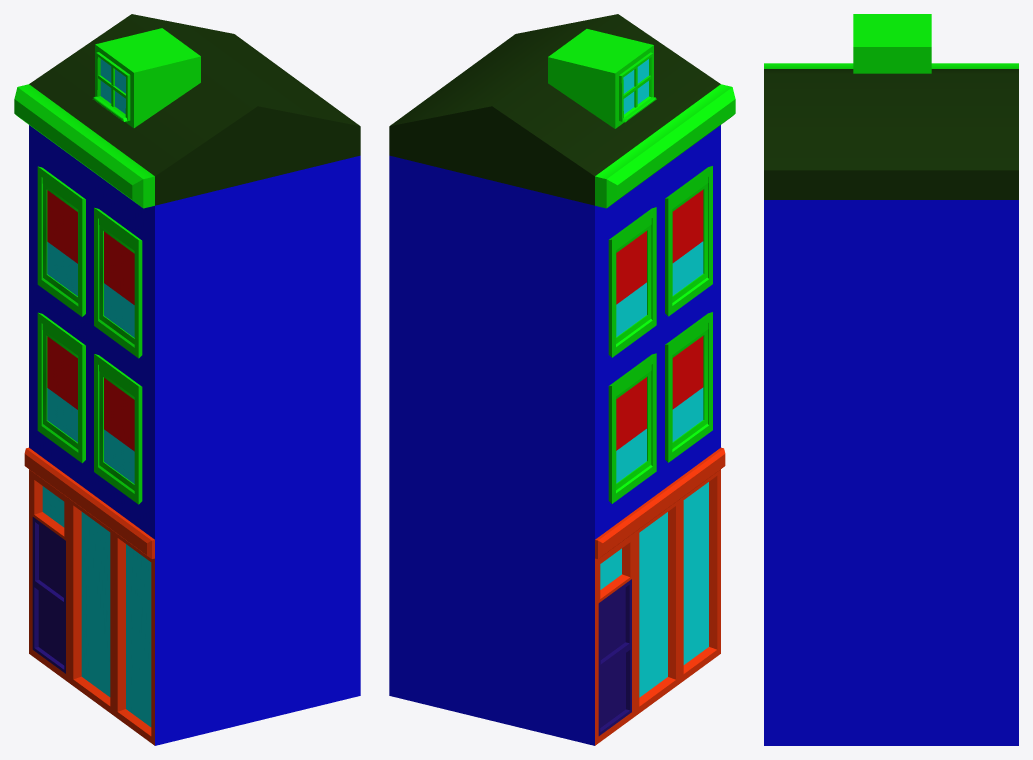
File: Links_4.obj
3 renders of one model, left to right at view 1: azimuth 30°, elevation 25°; view 2: azimuth 150°, elevation 25°; view 3: azimuth 270°, elevation 25°, orthographic.
Visible parts, largest first — view 1: polySurface585; view 2: polySurface585; view 3: polySurface585.
Part boxes in pixels (box(x1,y1,x2,y2)): polySurface585: box(14, 14, 360, 745); polySurface585: box(389, 14, 735, 745); polySurface585: box(764, 14, 1018, 745).
Bounding box in the file's own units: 10.45 × 28.29 × 10.17.
